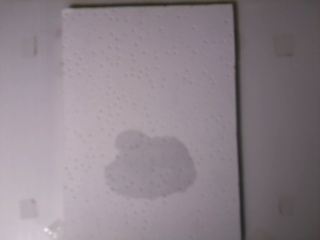Water_detected: (114, 143, 187, 190)
